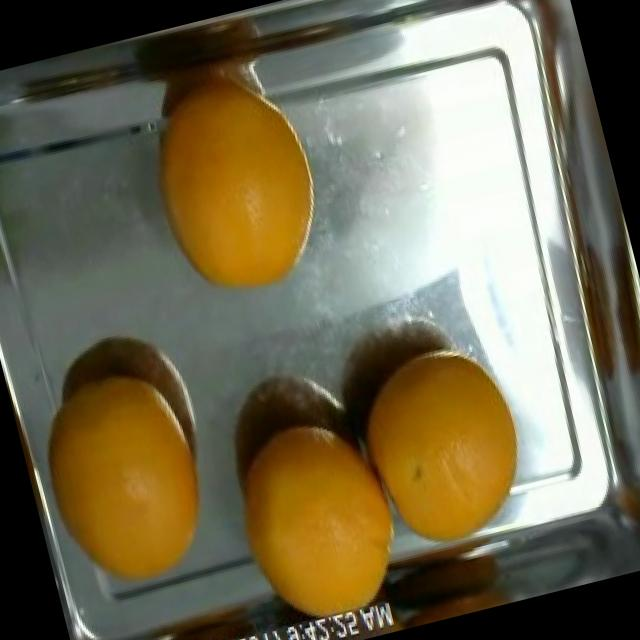Fruit: (324, 312, 552, 574), (125, 80, 349, 323)
